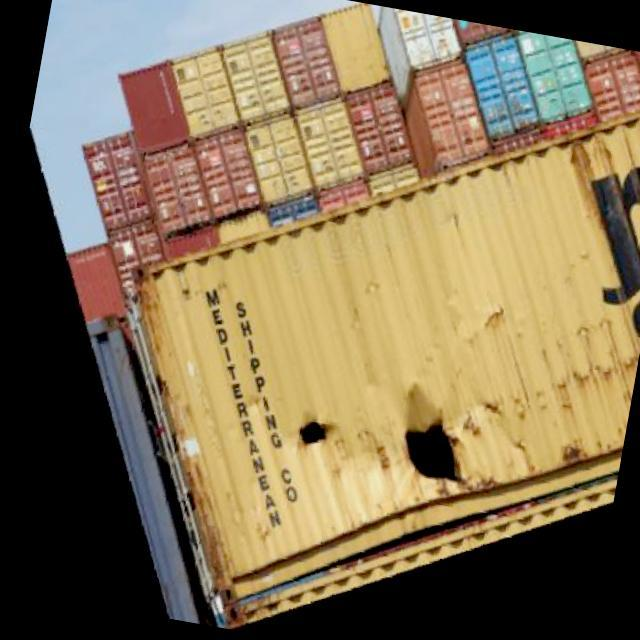hole: (370, 403, 499, 505), (272, 387, 368, 482)
rust: (521, 319, 639, 446)
